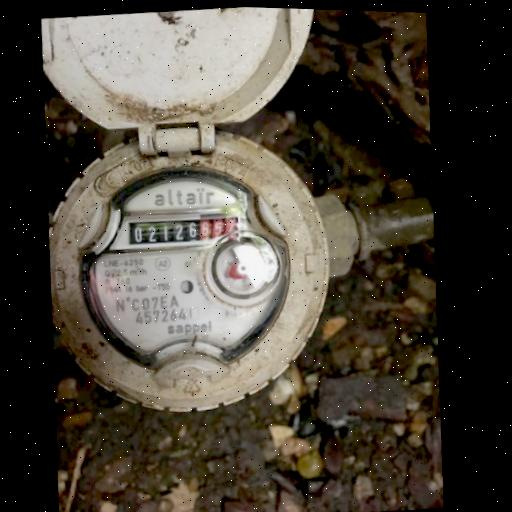0: (132, 223, 145, 244)
1: (159, 222, 172, 242)
2: (146, 223, 159, 243), (173, 221, 186, 241)
5: (213, 220, 222, 236)
6: (186, 220, 199, 241), (199, 220, 211, 240)
border_water_meter_number: (107, 205, 248, 254)
